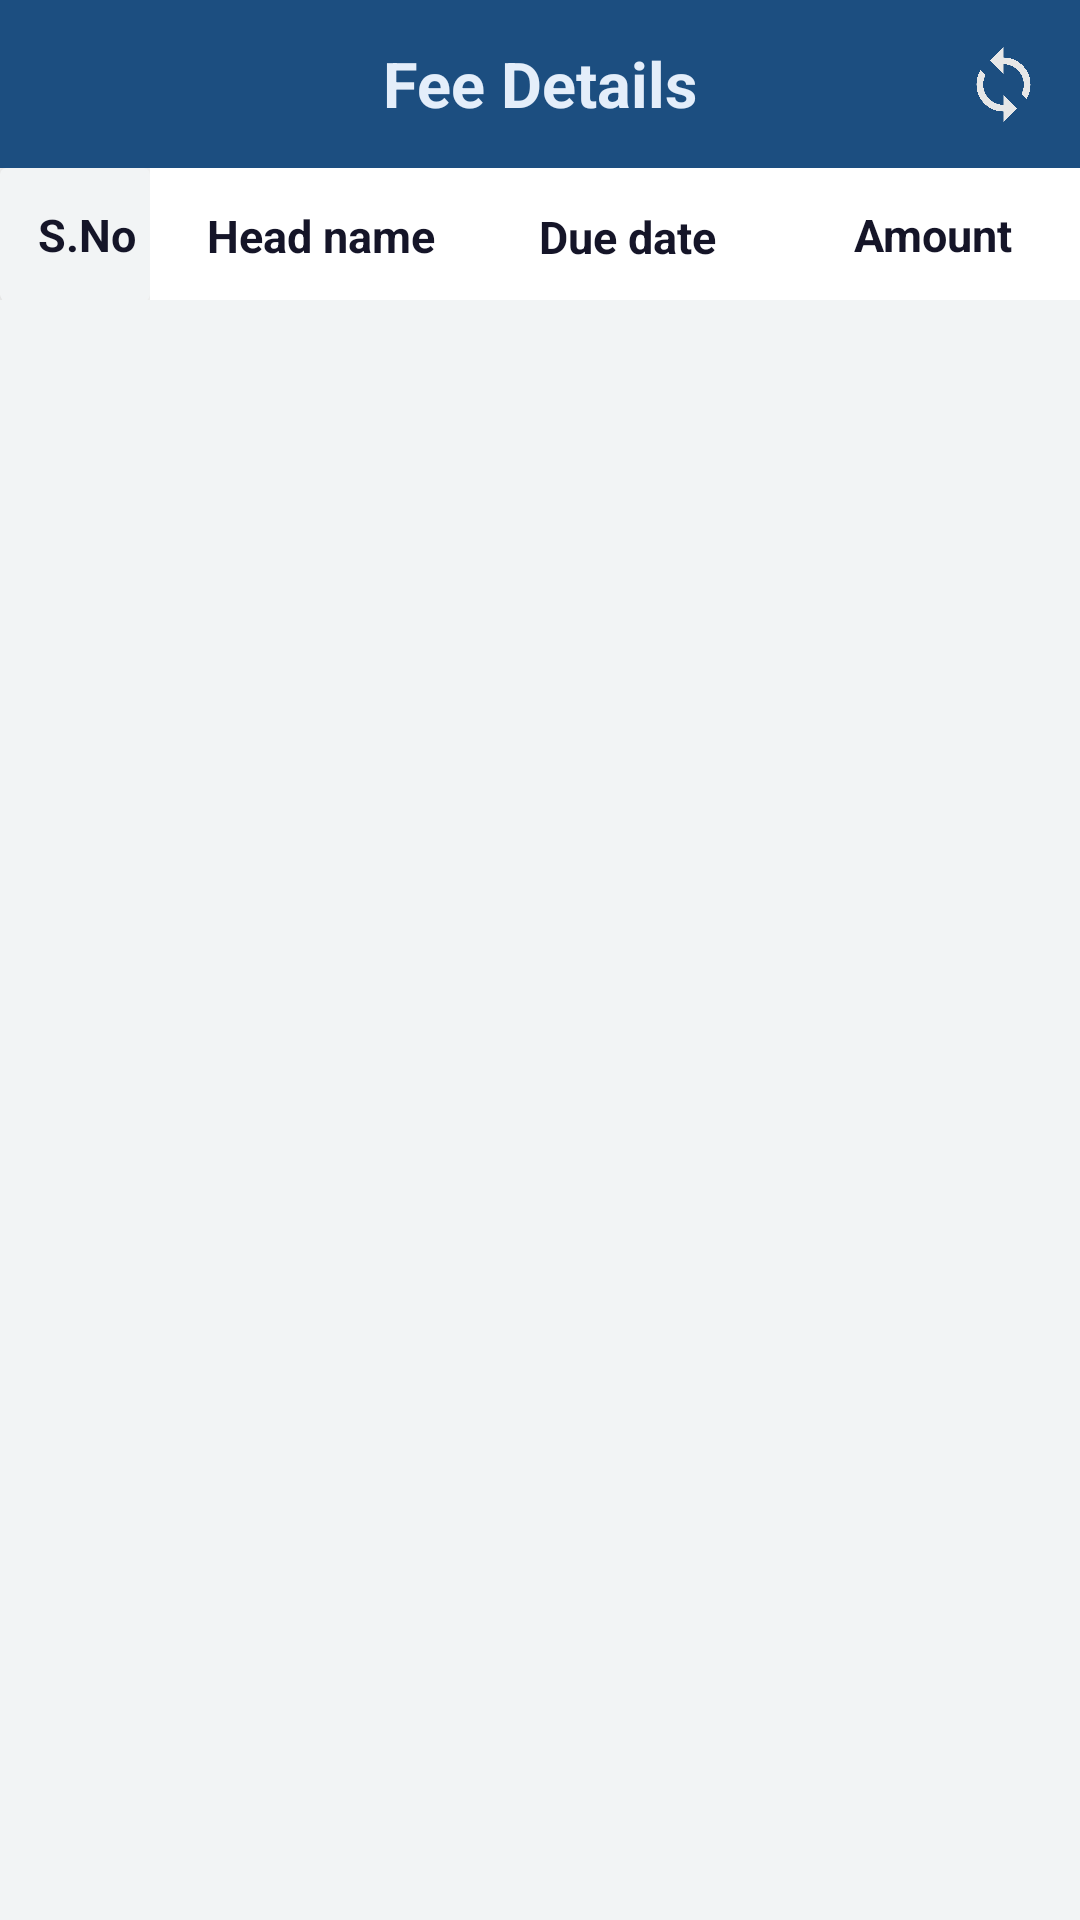

Where to tap for icons on this 1080px×1920px app screen, as (x,y):
sync: (1003,84)
